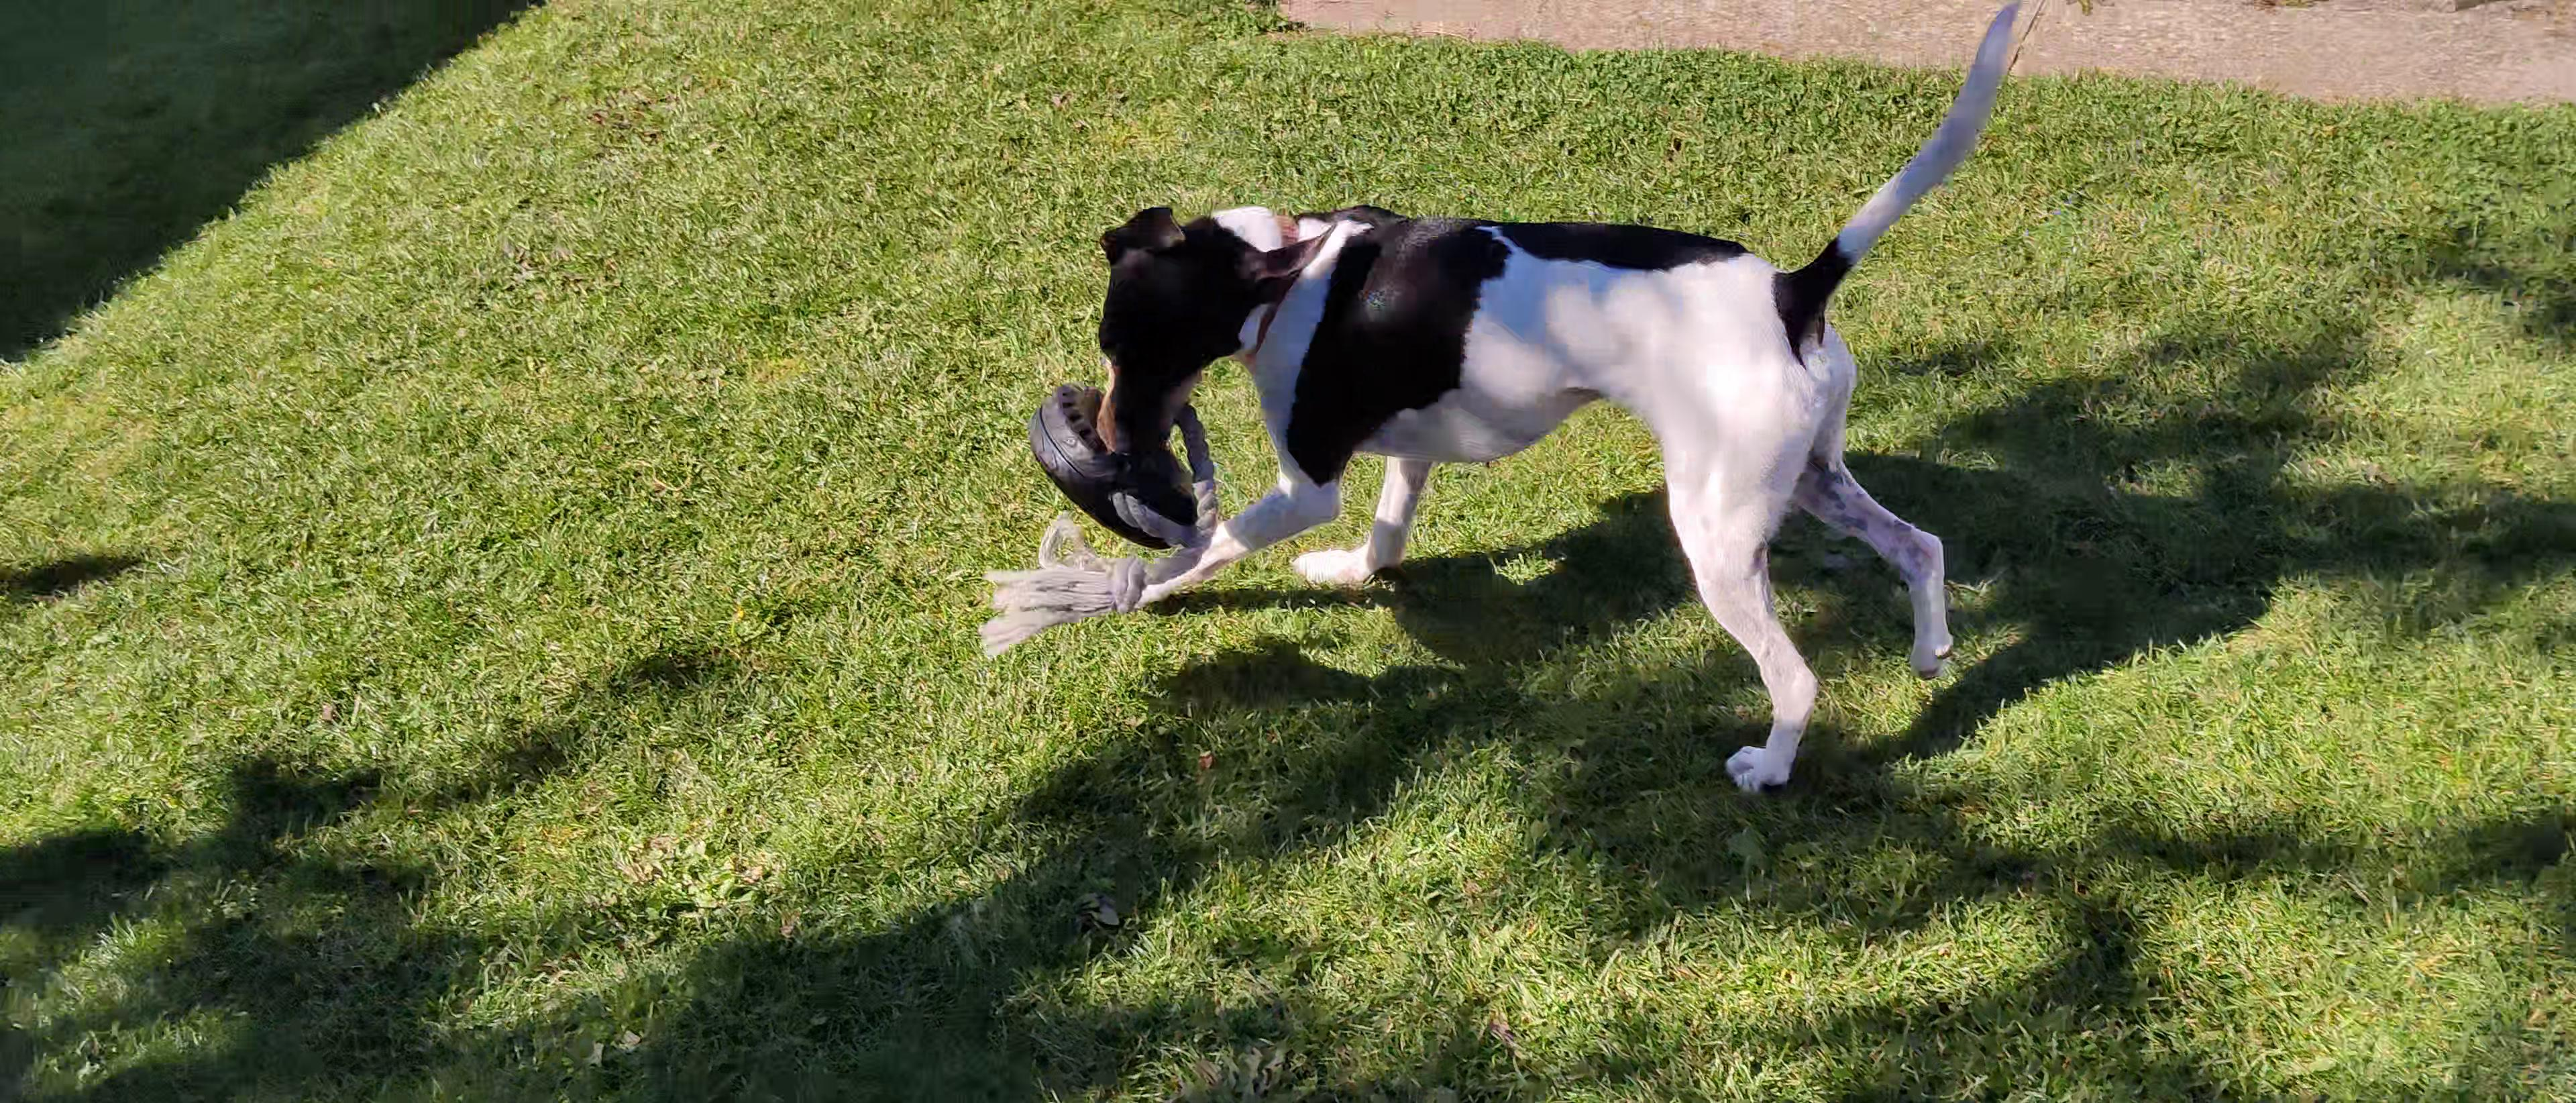Dog: (1068, 0, 2052, 817)
